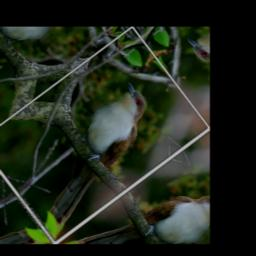Cuckoo: (5, 79, 179, 237)
